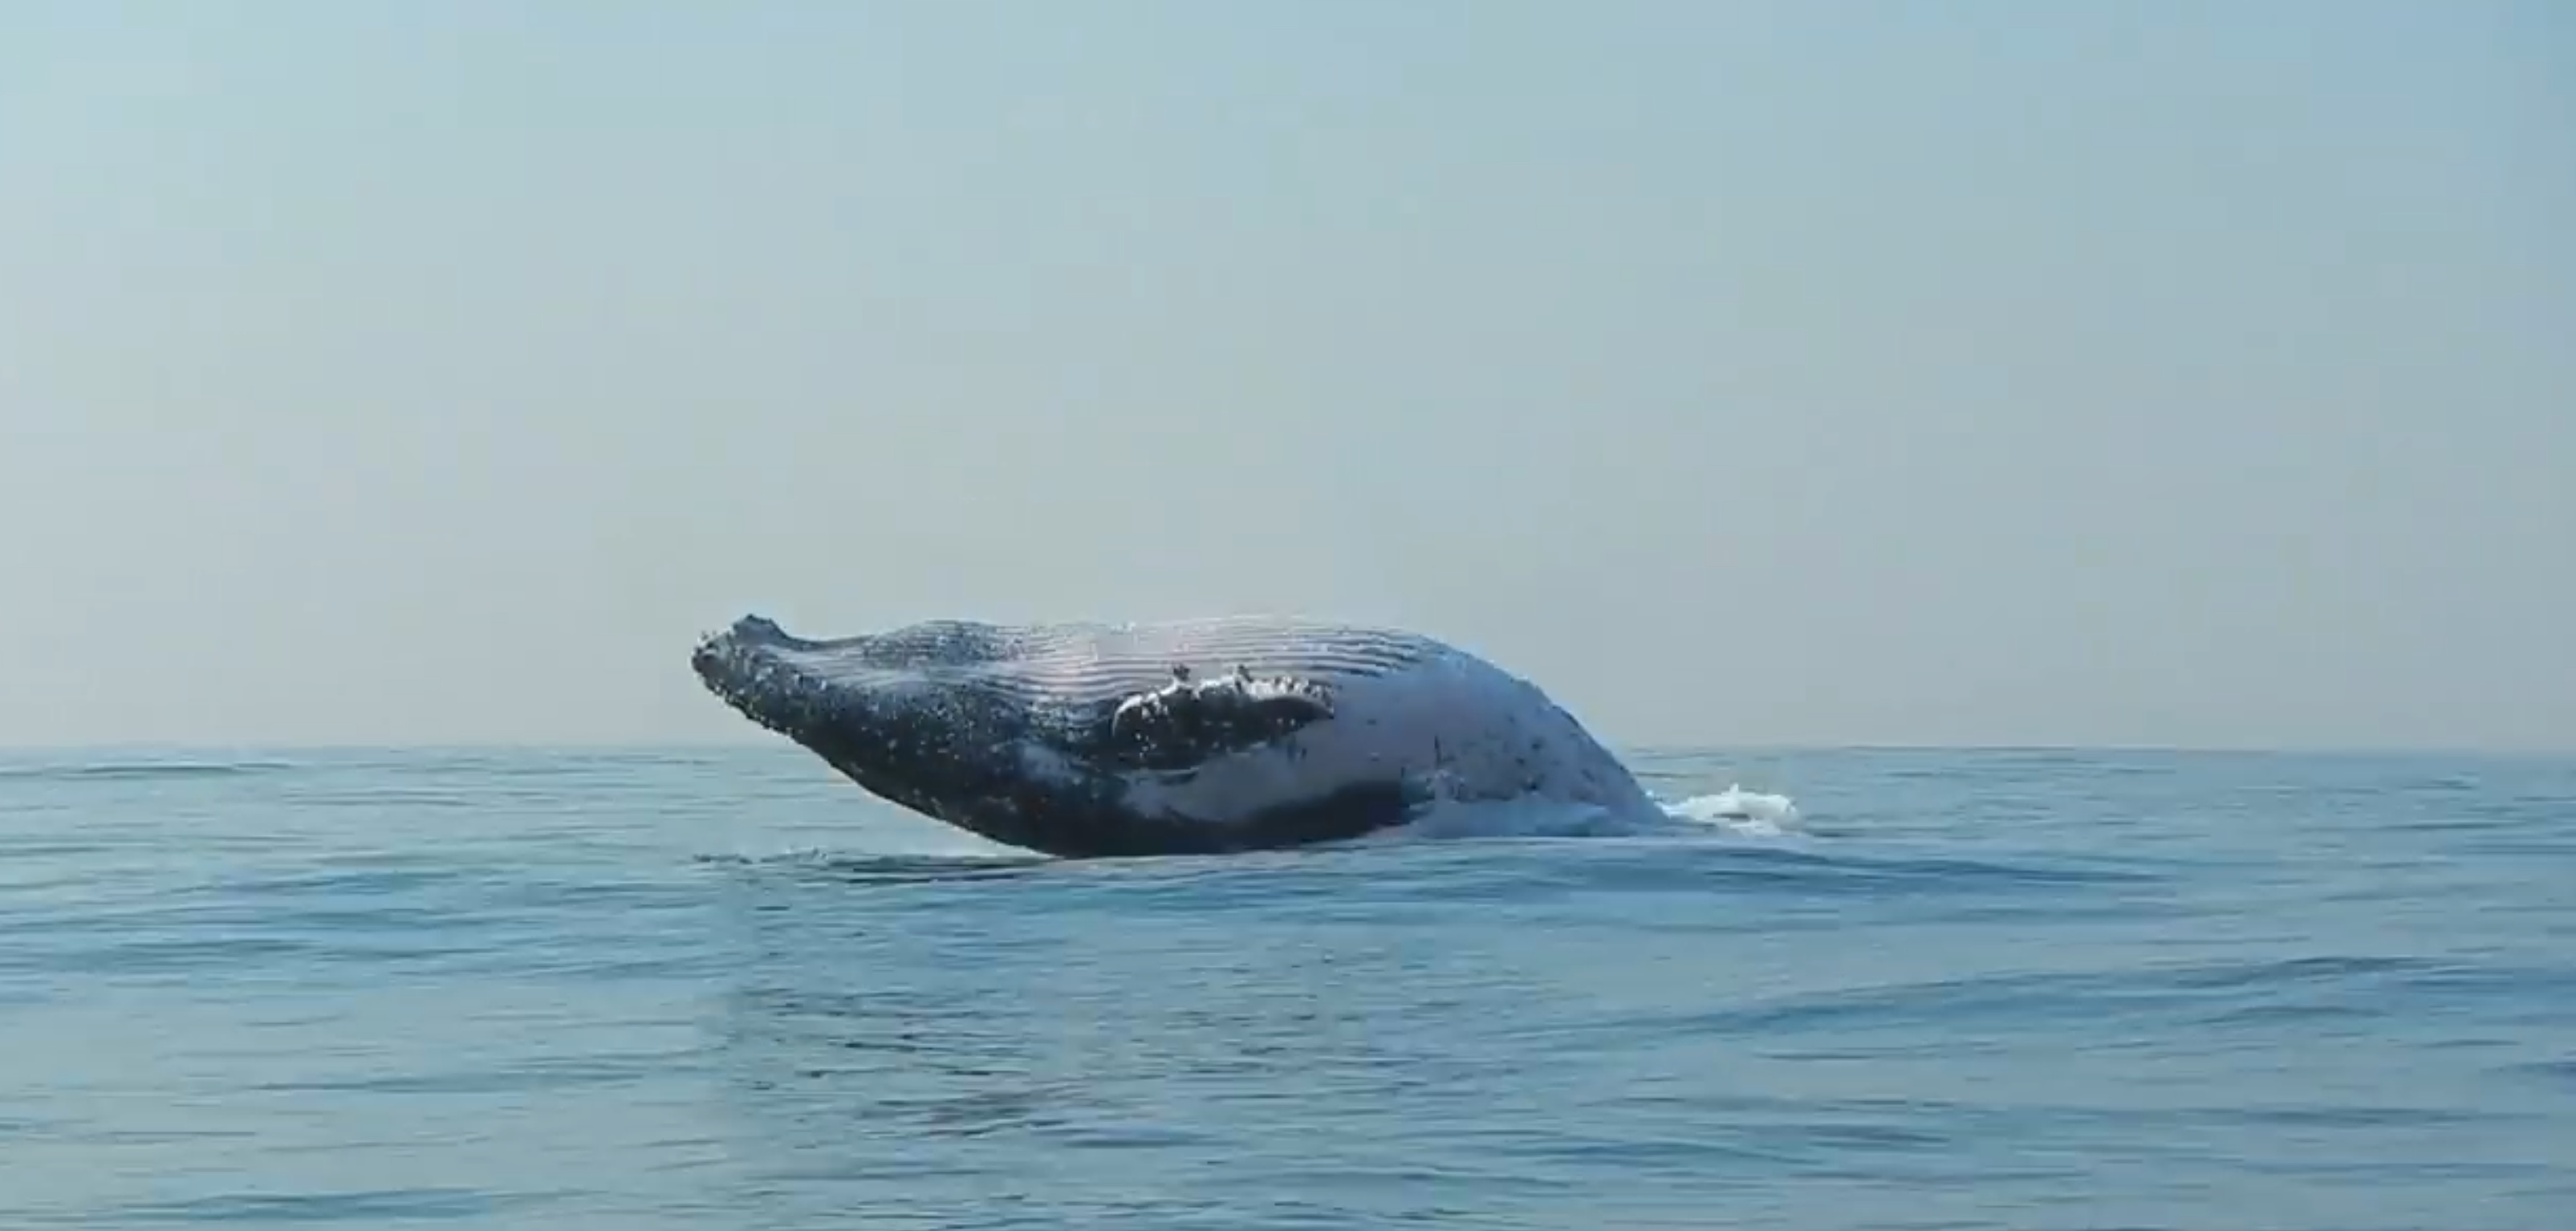humpback: (685, 608, 1677, 858)
